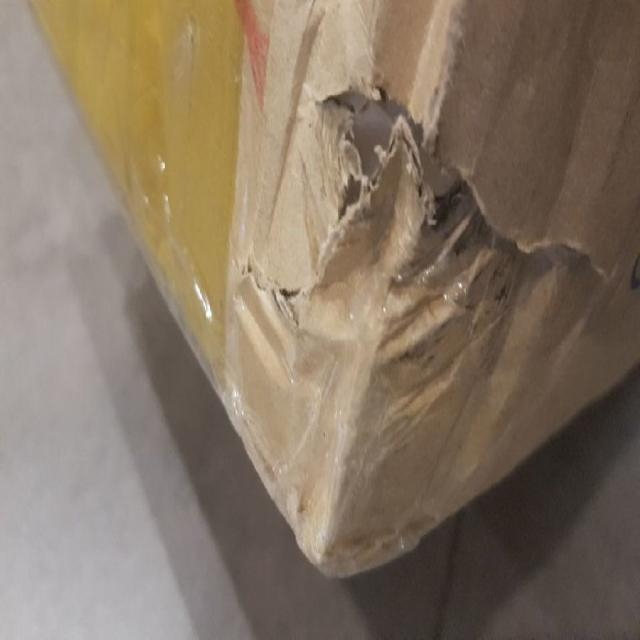damaged: (310, 81, 432, 246)
